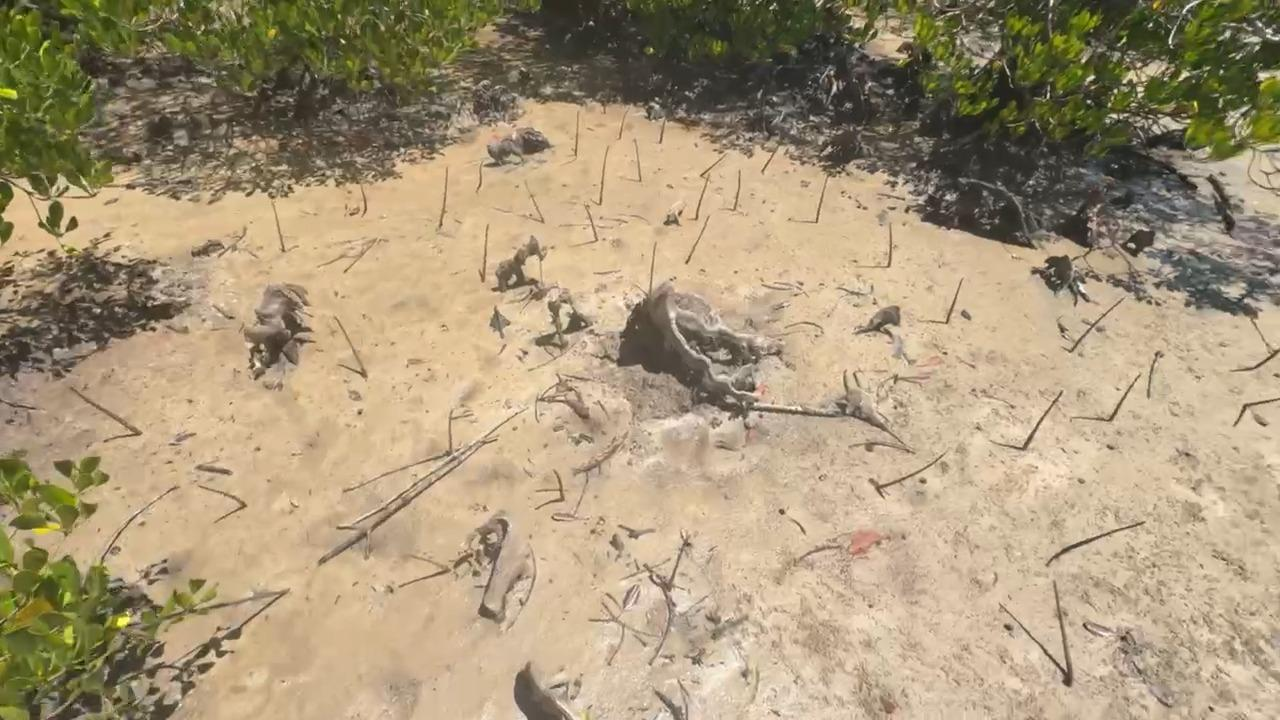Tree: (71, 384, 143, 435), (1069, 296, 1127, 350), (874, 449, 949, 487), (1022, 390, 1064, 449), (1052, 580, 1074, 686), (334, 314, 367, 378), (1108, 374, 1141, 423), (761, 131, 789, 173), (686, 214, 708, 266), (199, 484, 248, 507), (523, 179, 545, 223), (946, 277, 964, 323), (598, 144, 611, 206), (272, 200, 286, 252), (816, 175, 829, 224), (695, 175, 709, 220), (700, 153, 727, 176), (438, 167, 448, 228), (583, 202, 598, 240), (481, 223, 490, 282), (648, 244, 657, 292), (1243, 396, 1280, 407), (553, 468, 564, 503), (633, 140, 642, 181), (446, 407, 454, 453), (618, 110, 629, 141), (658, 116, 669, 142), (734, 171, 741, 210), (574, 111, 580, 155), (887, 222, 893, 266), (358, 185, 367, 211), (476, 163, 484, 191), (601, 99, 605, 114)
